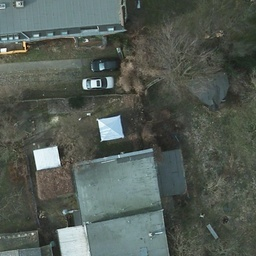car: (82, 75, 115, 92), (91, 58, 121, 75)
